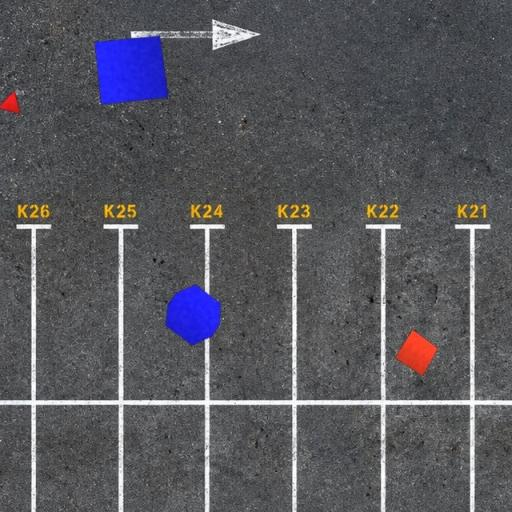BLUE_SQUARE: (94, 35, 169, 106)
RED_SQUARE: (394, 329, 440, 377)
